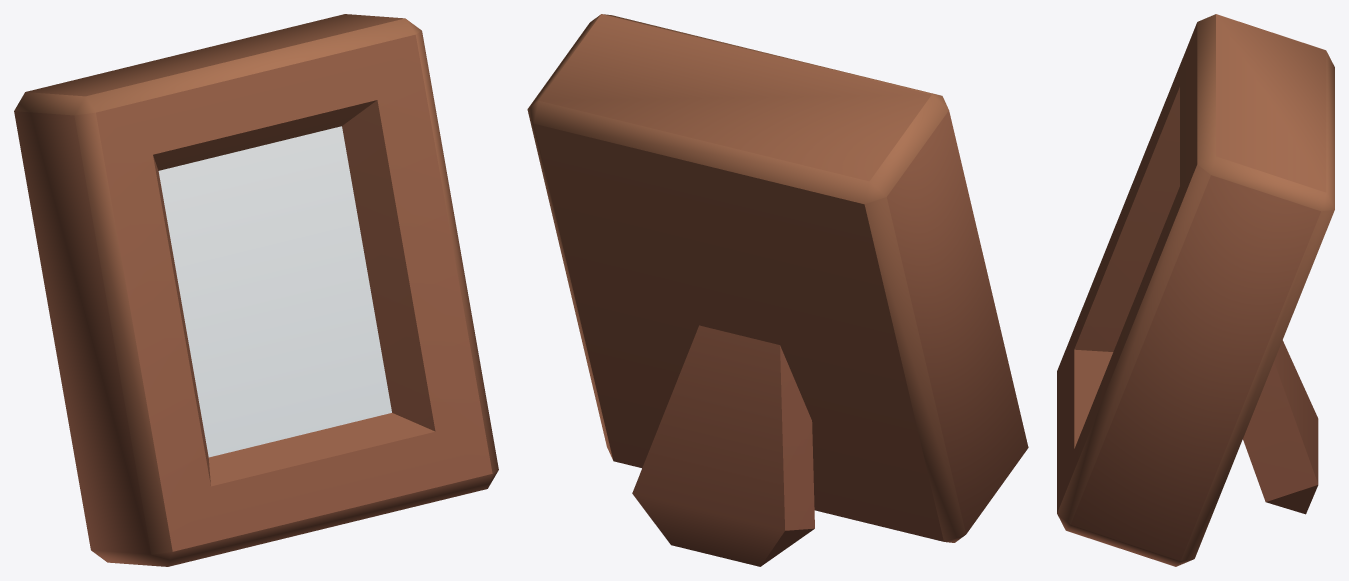
File: pictureframe-standing-a.glb
The picture shows the model from 3 angles, left to right: view 1: azimuth 30°, elevation 25°; view 2: azimuth 150°, elevation 25°; view 3: azimuth 270°, elevation 25°; orthographic projection. The views are drawn at different scales.
Visible parts, largest first — view 1: pictureframe_standing_A; view 2: pictureframe_standing_A; view 3: pictureframe_standing_A.
Part boxes in pixels (x1=…): pictureframe_standing_A: x1=14, y1=14, x2=498, y2=566; pictureframe_standing_A: x1=527, y1=14, x2=1028, y2=566; pictureframe_standing_A: x1=1057, y1=14, x2=1334, y2=566.
Bounding box in the file's own units: 0.5 × 0.6185 × 0.3795.
